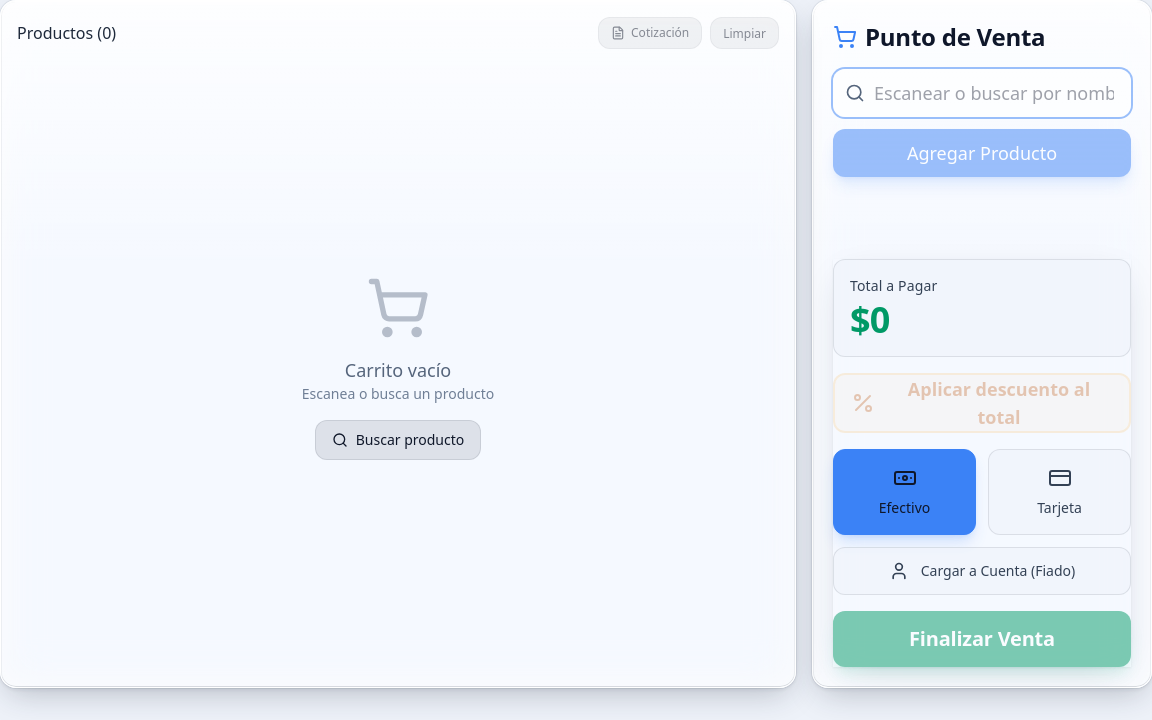
Punto de venta › escanea por código exacto sin pedir nada al servidor
Type "abc123" into the dropdown with placeholder "Escanear o buscar por nombre...". click: (982, 93)
box: left=833, top=69, right=1131, bottom=117
Then press Enter
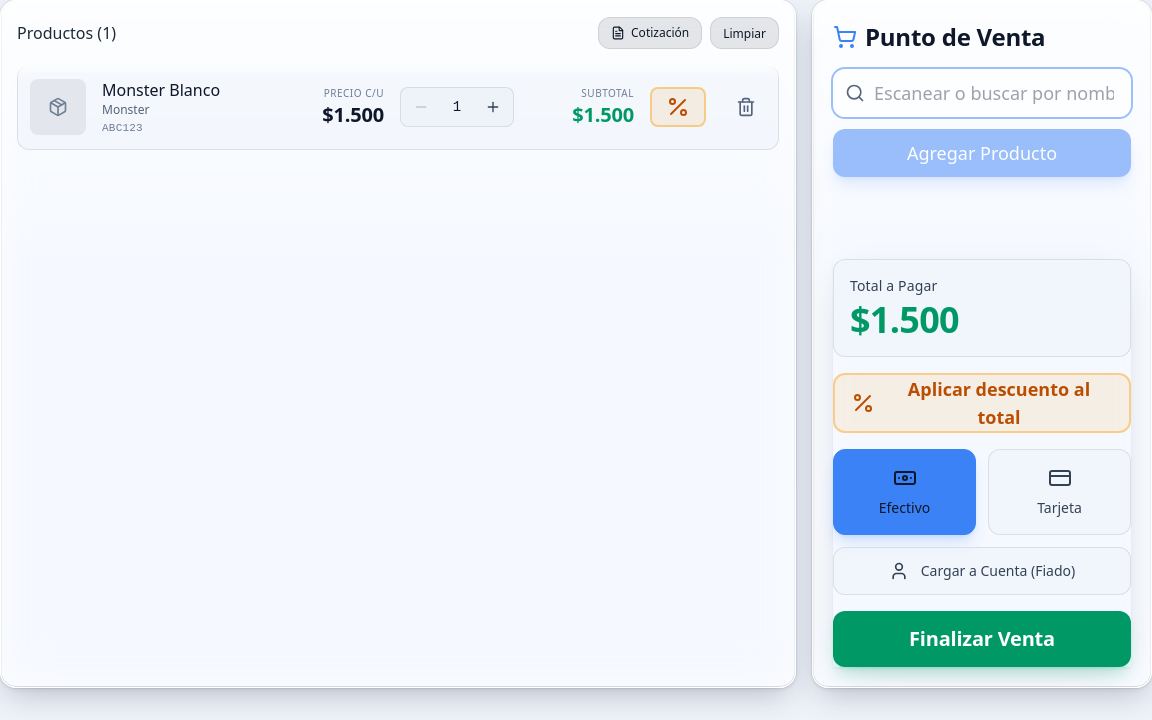
Expected: the heading "Monster Blanco" is shown, left=102, top=79, right=220, bottom=101
Expected: the text "$1.500" below "Total a Pagar" is shown, left=850, top=295, right=959, bottom=344
